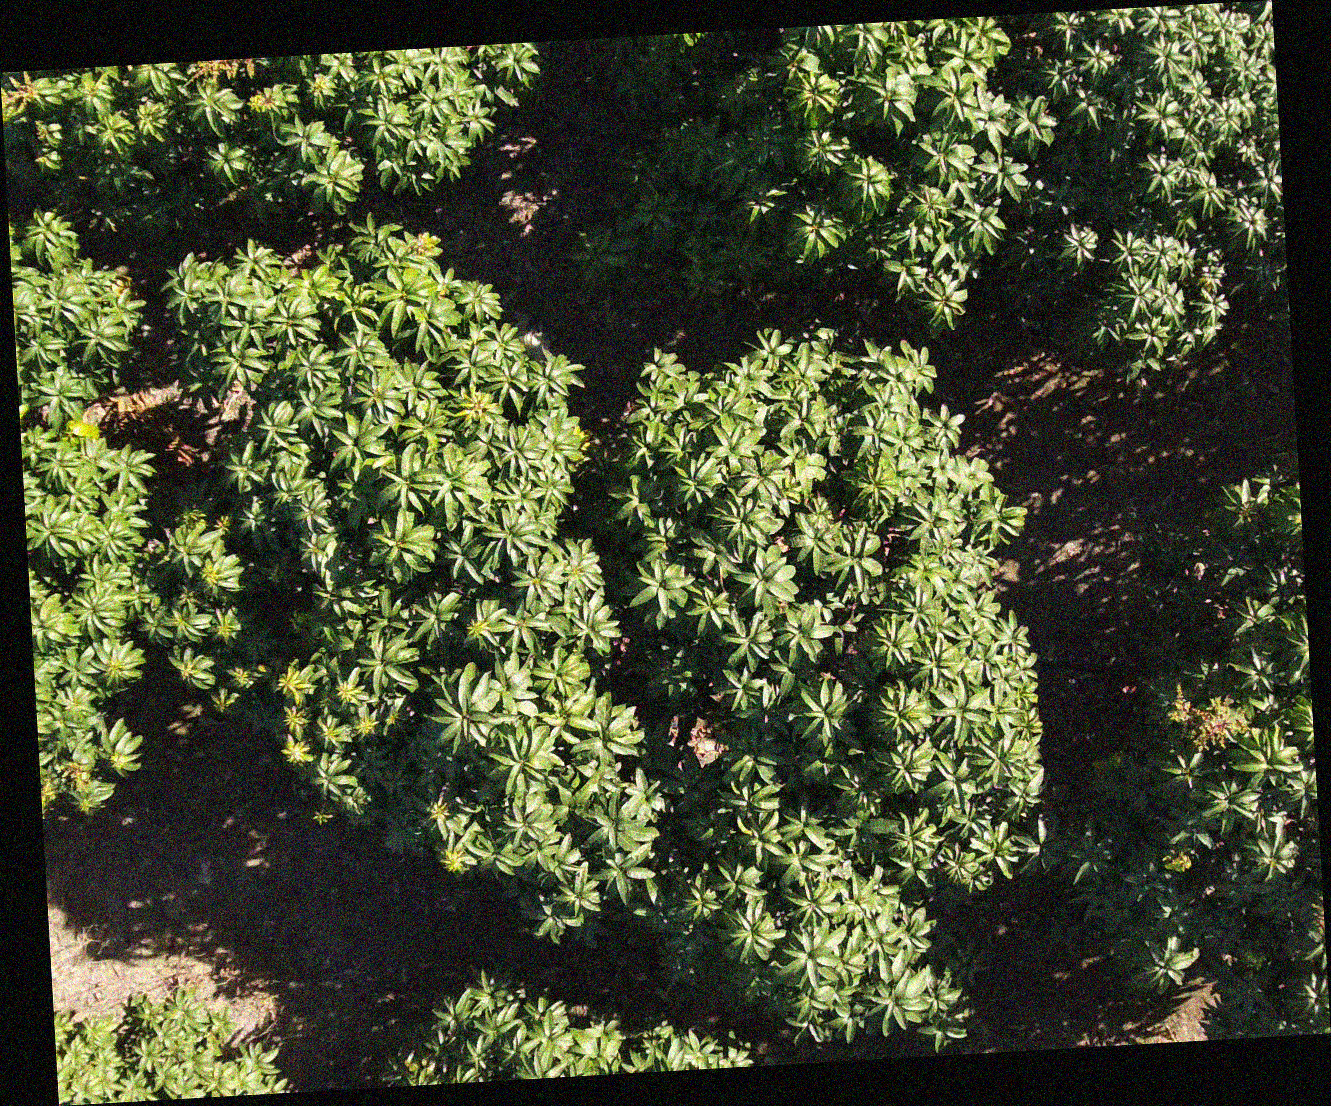flowers: (1168, 684, 1248, 752), (1, 75, 36, 122), (192, 59, 255, 80)
